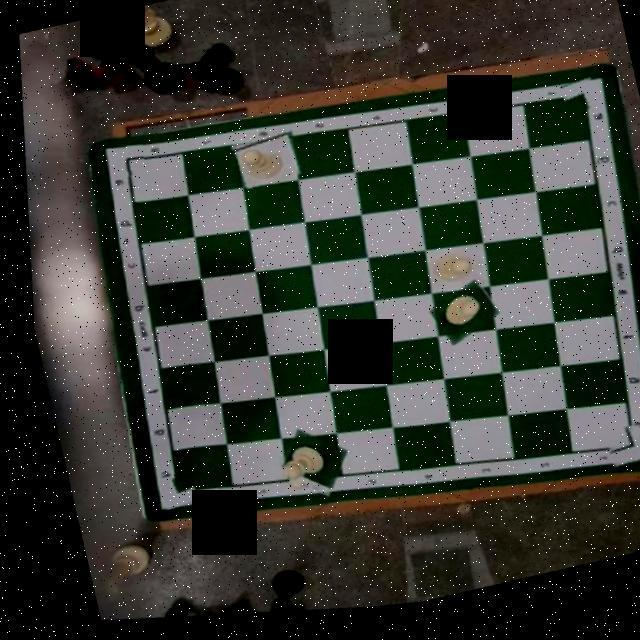chess-table-corners: (589, 431, 640, 488), (142, 471, 192, 519), (553, 85, 601, 134), (100, 144, 146, 186)
